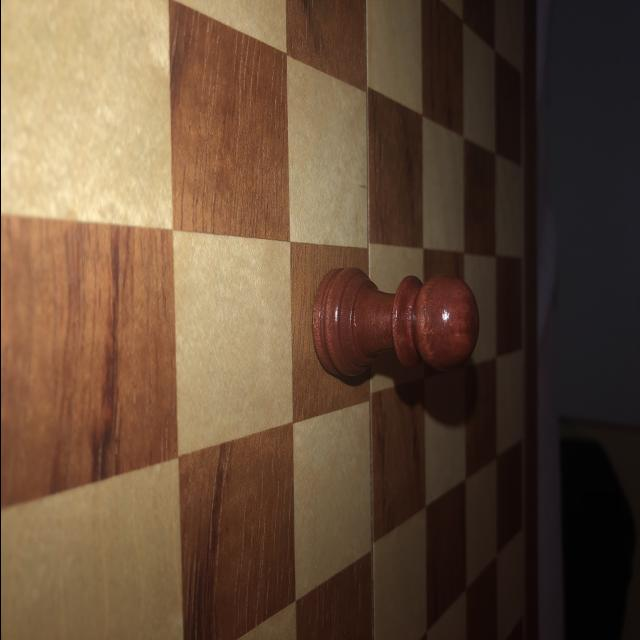black_pawn: (310, 266, 480, 382)
